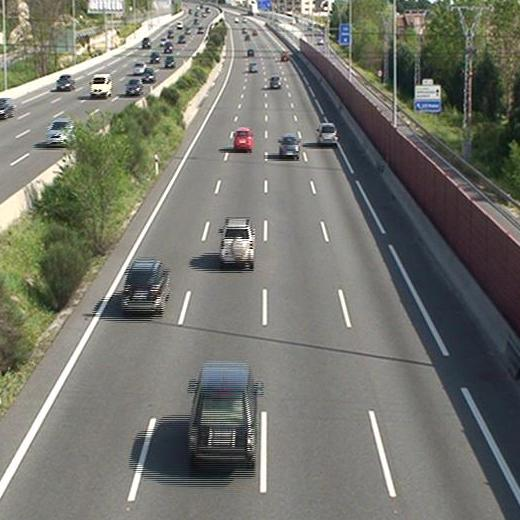car: (187, 365, 258, 466), (121, 261, 169, 312), (220, 221, 255, 266), (318, 123, 337, 147), (232, 127, 252, 149), (278, 135, 298, 156), (269, 75, 282, 89), (248, 62, 258, 73)
